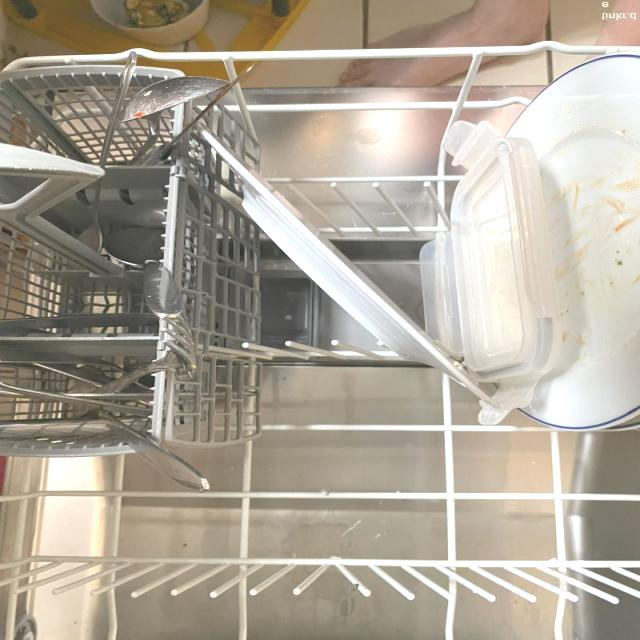clutery_bin: (1, 62, 200, 450)
empty_slot: (12, 463, 632, 638)
